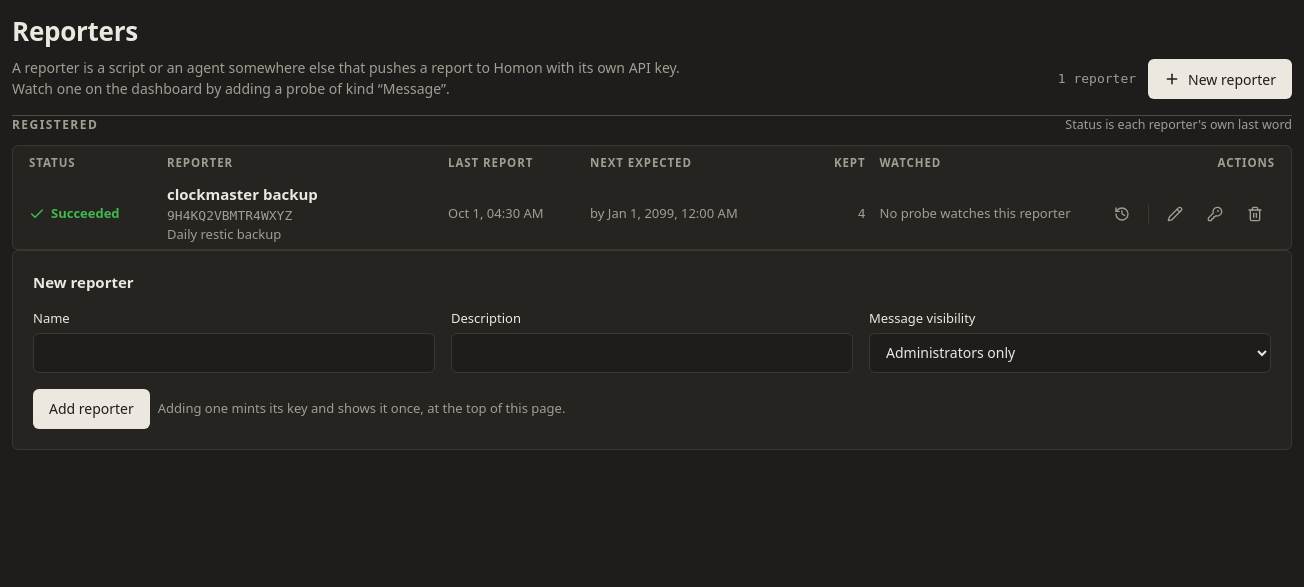
it: AdminReportersPage › shows a reporter history with the body, which is the only place one appears
Expected: the text "clockmaster backup" is shown, 167,183 -> 318,206
Click the button named "Messages from clockmaster backup" at point(1122, 214), box 1102,194 -> 1142,234
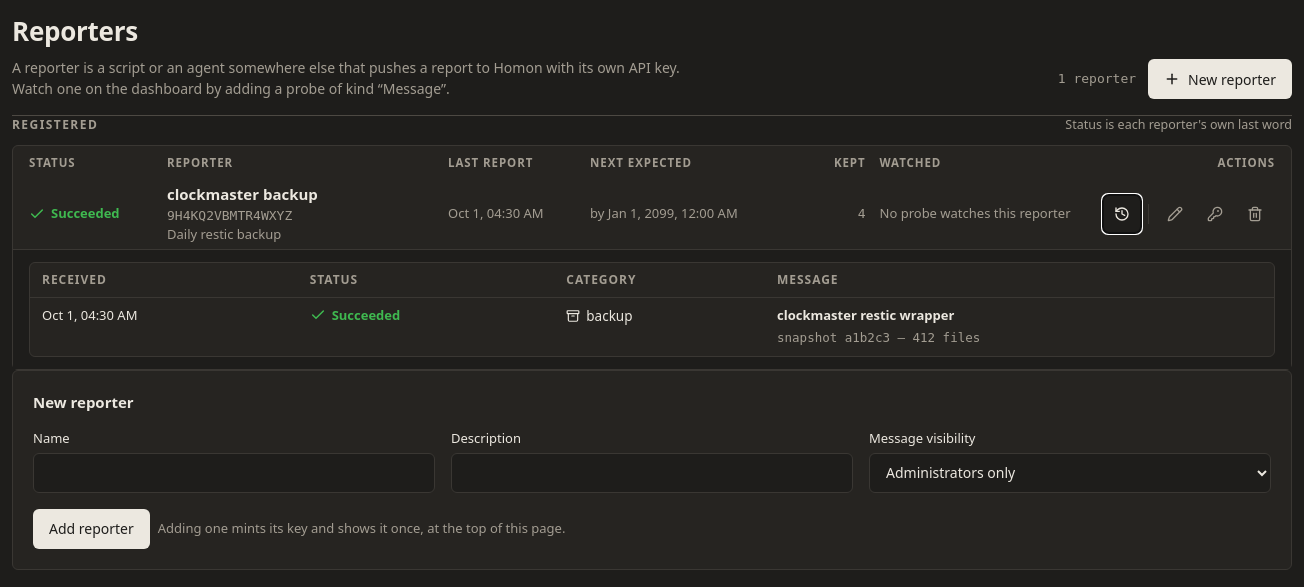
Expected: the table named "Messages from clockmaster backup" is shown, 30,262 -> 1274,356
Expected: the text "snapshot a1b2c3 — 412 files" is shown, 777,330 -> 980,345
